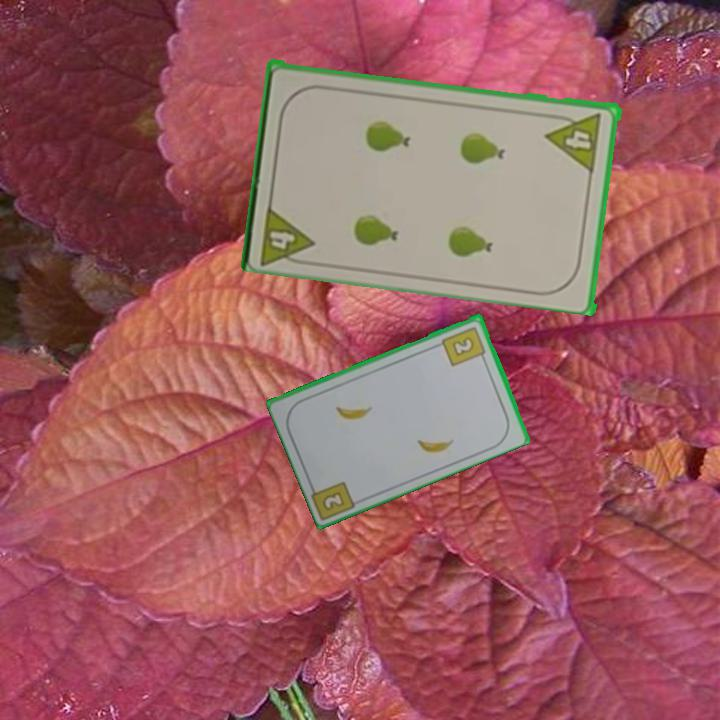2b: (439, 323, 489, 369), (321, 490, 345, 511)
4p: (256, 199, 318, 268), (544, 109, 605, 174)
